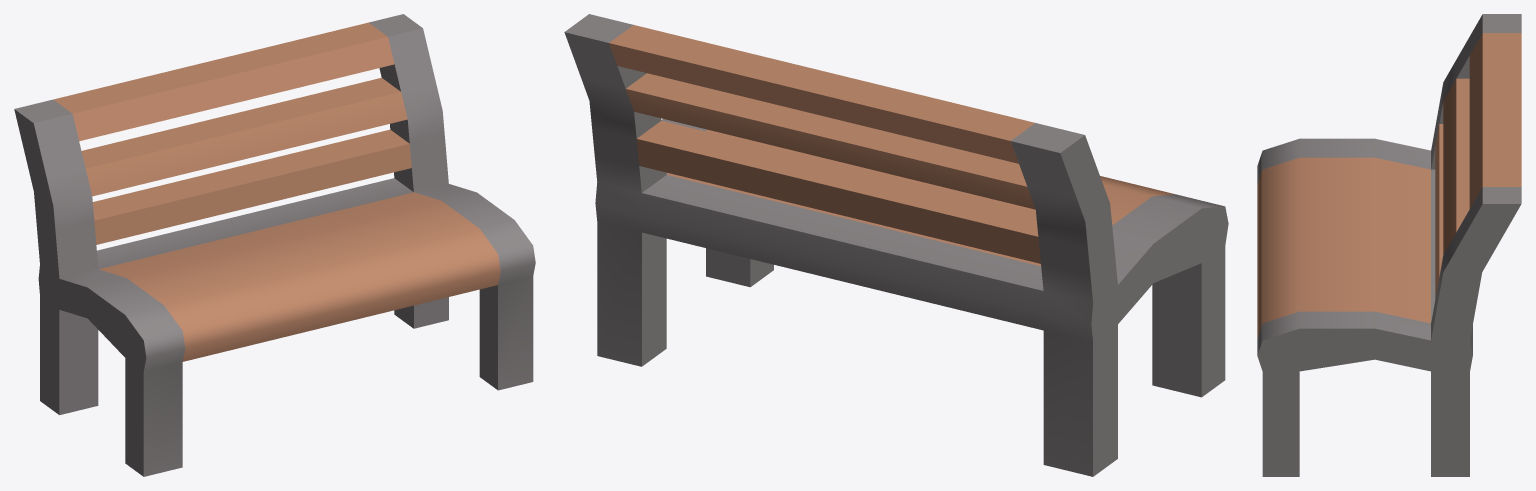
File: Banco.fbx
3 renders of one model, left to right at view 1: azimuth 30°, elevation 25°; view 2: azimuth 150°, elevation 25°; view 3: azimuth 270°, elevation 25°, orthographic. The views are drawn at different scales.
Parts seen in each view (by area): view 1: Banco; view 2: Banco; view 3: Banco.
Part boxes in pixels (x1=…): Banco: x1=14, y1=14, x2=535, y2=476; Banco: x1=564, y1=14, x2=1228, y2=476; Banco: x1=1257, y1=14, x2=1521, y2=476.
Size of the model in its own units: 252 by 169 by 148.
